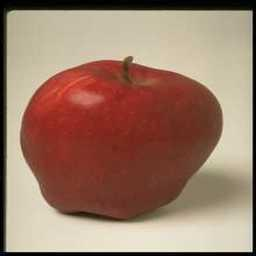apple: (21, 57, 225, 224)
